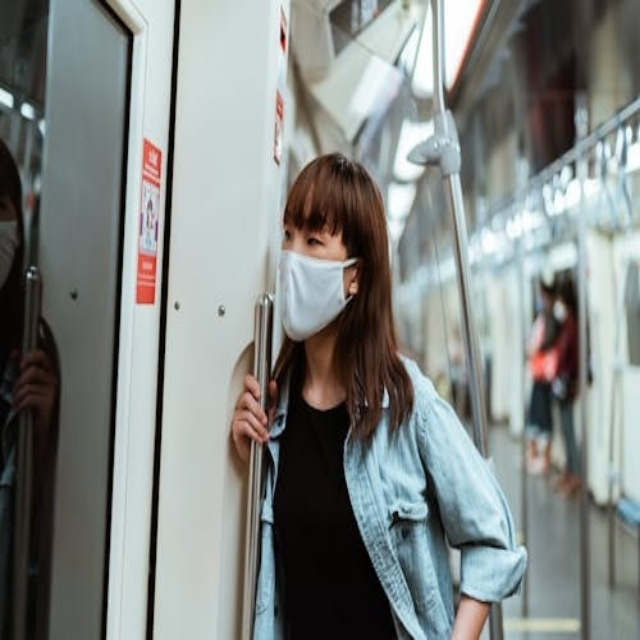Mascara: (278, 248, 361, 340), (0, 216, 20, 290), (552, 300, 567, 322), (535, 294, 546, 314)
Sin_gafas: (282, 209, 342, 265)
Sin_guantes: (218, 363, 284, 477), (6, 325, 59, 439)
